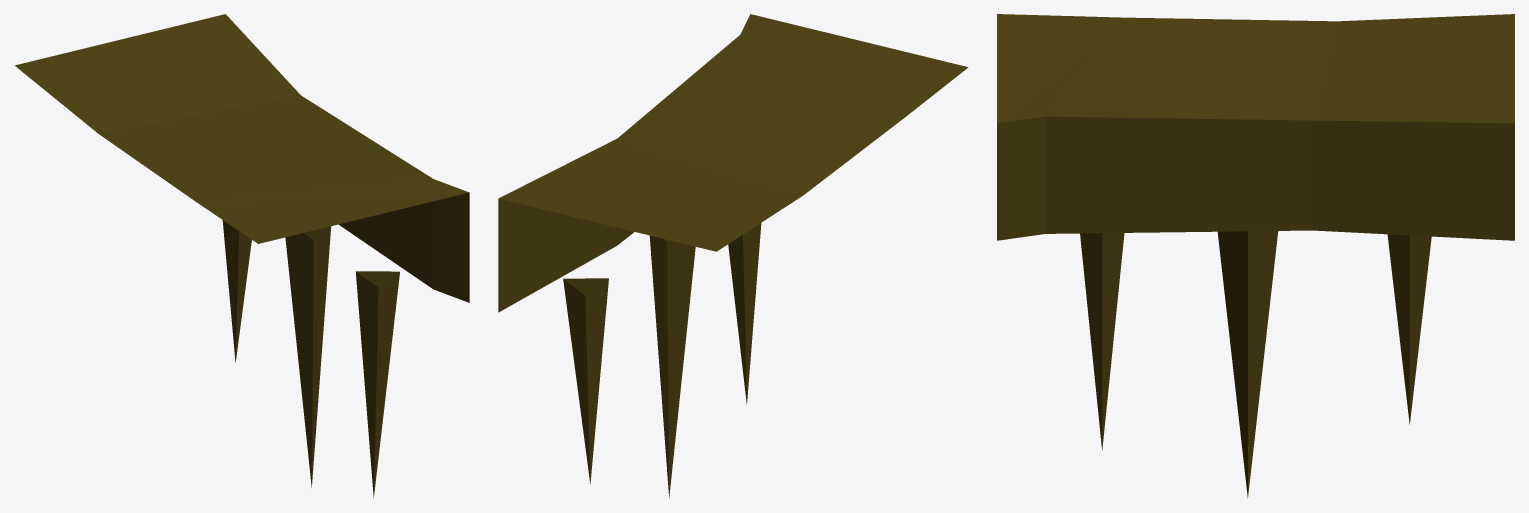
File: obj_ledge_0.obj
3 views of the same model, side by side, from view 1: azimuth 30°, elevation 25°; view 2: azimuth 150°, elevation 25°; view 3: azimuth 270°, elevation 25° (orthographic). The views are drawn at different scales.
Bounding box in the file's own units: 0.5 × 0.8438 × 1.
